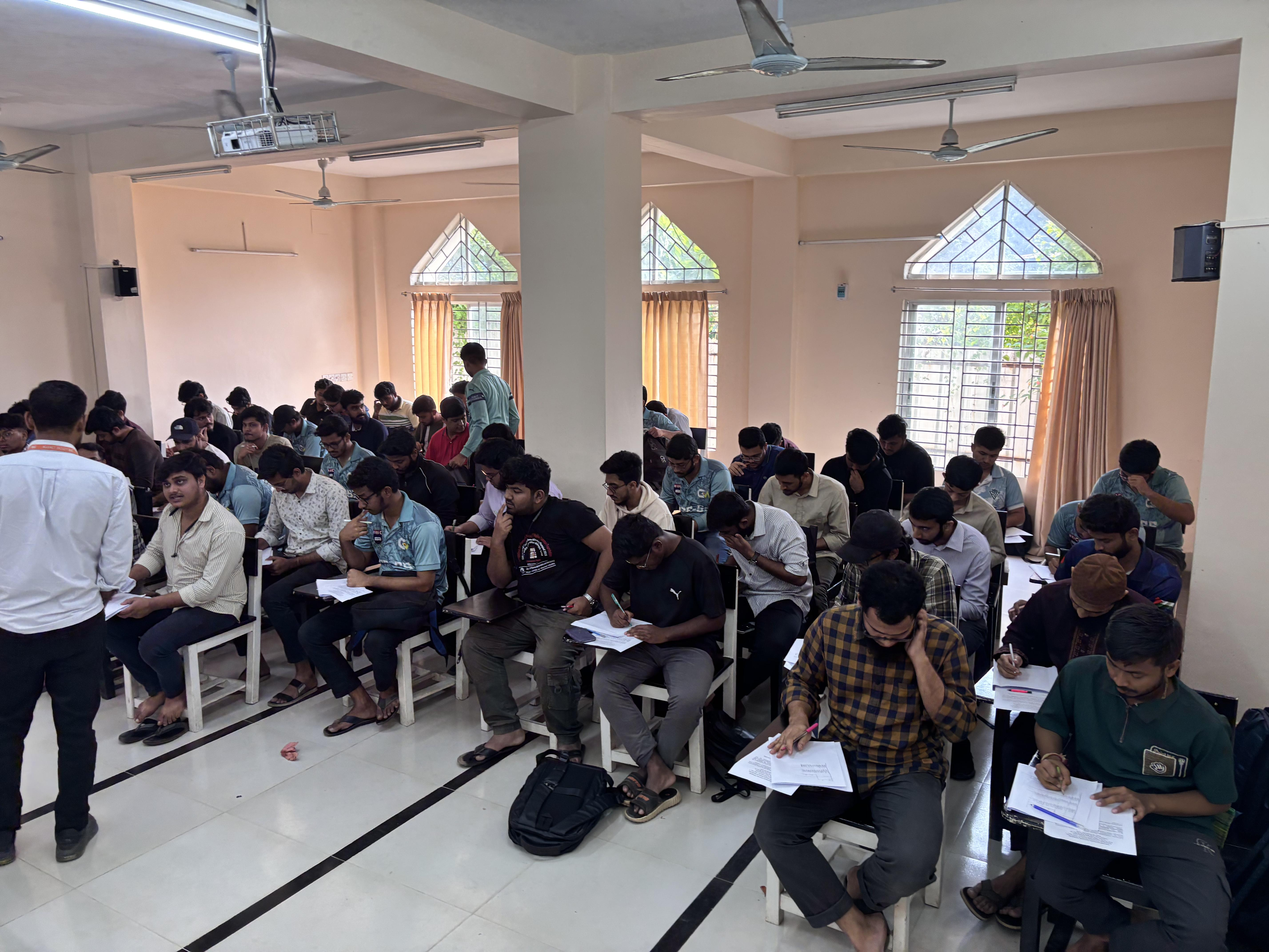copying: (432, 394, 475, 456)
invigilator: (0, 381, 132, 828)
no_cheating: (1020, 601, 1235, 923), (785, 563, 953, 856), (477, 461, 591, 722), (580, 513, 724, 687), (321, 460, 433, 620), (1003, 553, 1143, 673), (142, 453, 242, 609), (252, 443, 337, 571), (706, 488, 804, 597), (874, 407, 938, 512), (1069, 493, 1146, 576), (763, 441, 840, 523), (452, 337, 507, 442), (825, 422, 885, 512), (595, 452, 660, 522), (655, 433, 716, 506), (902, 490, 961, 563), (940, 453, 990, 529), (1114, 439, 1172, 501), (732, 419, 778, 494), (972, 426, 1022, 491), (84, 403, 139, 461), (309, 417, 362, 471), (225, 408, 280, 459), (378, 430, 428, 481), (369, 378, 407, 427), (267, 402, 309, 446), (161, 419, 201, 461), (342, 388, 377, 434), (474, 439, 502, 496), (410, 391, 442, 435), (223, 384, 255, 421)
